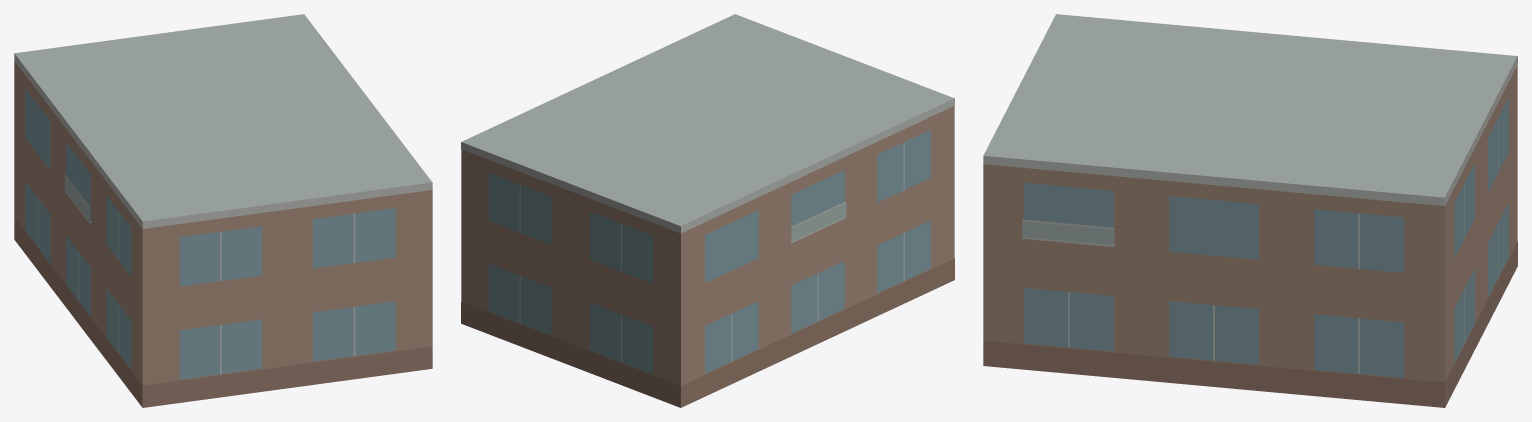
File: survey-upis-32711412.glb
3 views of the same model, side by side, from view 1: azimuth 30°, elevation 25°; view 2: azimuth 150°, elevation 25°; view 3: azimuth 270°, elevation 25° (orthographic). The views are drawn at different scales.
Visible parts, largest first — view 1: survey-upis-32711412.tmp; view 2: survey-upis-32711412.tmp; view 3: survey-upis-32711412.tmp.
Part boxes in pixels (x1,y1,x2,y2): survey-upis-32711412.tmp: (14, 14, 432, 407); survey-upis-32711412.tmp: (461, 14, 954, 407); survey-upis-32711412.tmp: (983, 14, 1517, 407).
Bounding box in the file's own units: 11.45 × 6.1 × 14.08.
